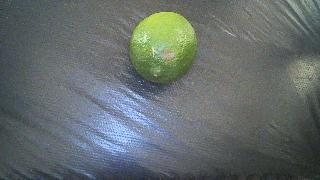DESECHO: (129, 12, 197, 83)
